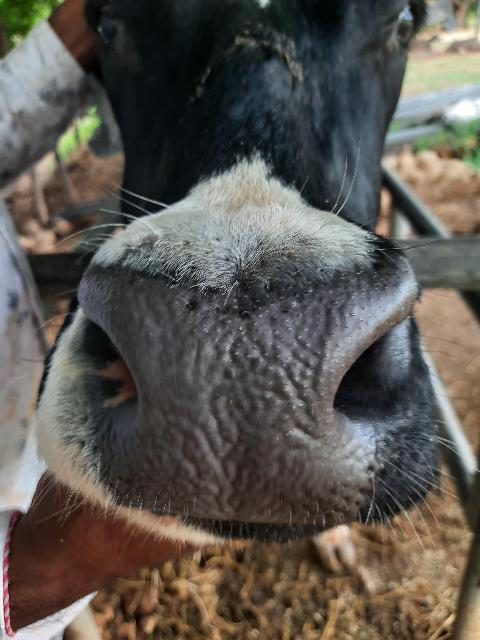Muzzle: (88, 267, 362, 511)
